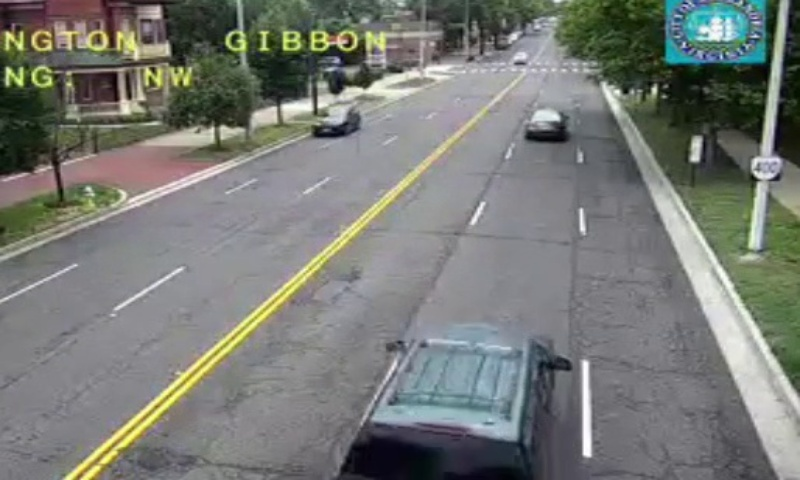car: (337, 323, 555, 480), (526, 109, 564, 139)
